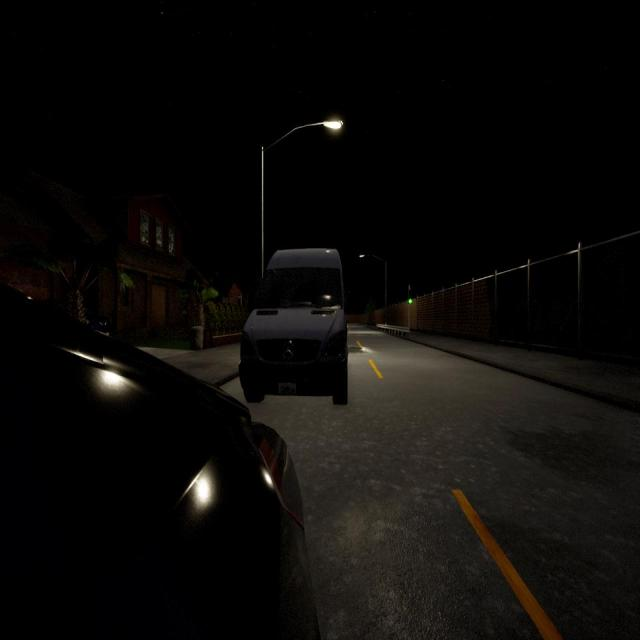Vehicle: (0, 283, 319, 638), (236, 247, 354, 405)
traffic_light: (408, 289, 412, 305)
